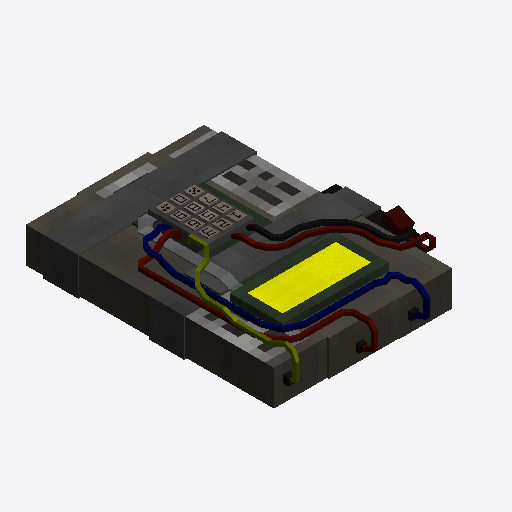
A Minecraft block model of 122 cuboids, rendered isometrically (azimuth 45°, elevation 35.3°) with the resource pack's own textures.
Visible parts, largest first — body (×3), element 8, element 16, screen, element 9, element 10, element 12, element 7, element 108, element 63, element 11, element 41 (+2 smaller).
Part boxes in pixels (left/top/right/bottom): body (×3): left=26, top=125, right=451, bottom=407; element 8: left=43, top=131, right=256, bottom=298; element 16: left=230, top=232, right=388, bottom=325; screen: left=248, top=242, right=370, bottom=312; element 9: left=149, top=193, right=362, bottom=359; element 10: left=184, top=211, right=327, bottom=295; element 12: left=148, top=183, right=253, bottom=251; element 7: left=132, top=182, right=311, bottom=284; element 108: left=138, top=226, right=228, bottom=278; element 63: left=138, top=266, right=253, bottom=337; element 11: left=332, top=186, right=380, bottom=217; element 41: left=172, top=271, right=262, bottom=326.
Size of the model in its own units: 6.66 by 1.87 by 9.11.